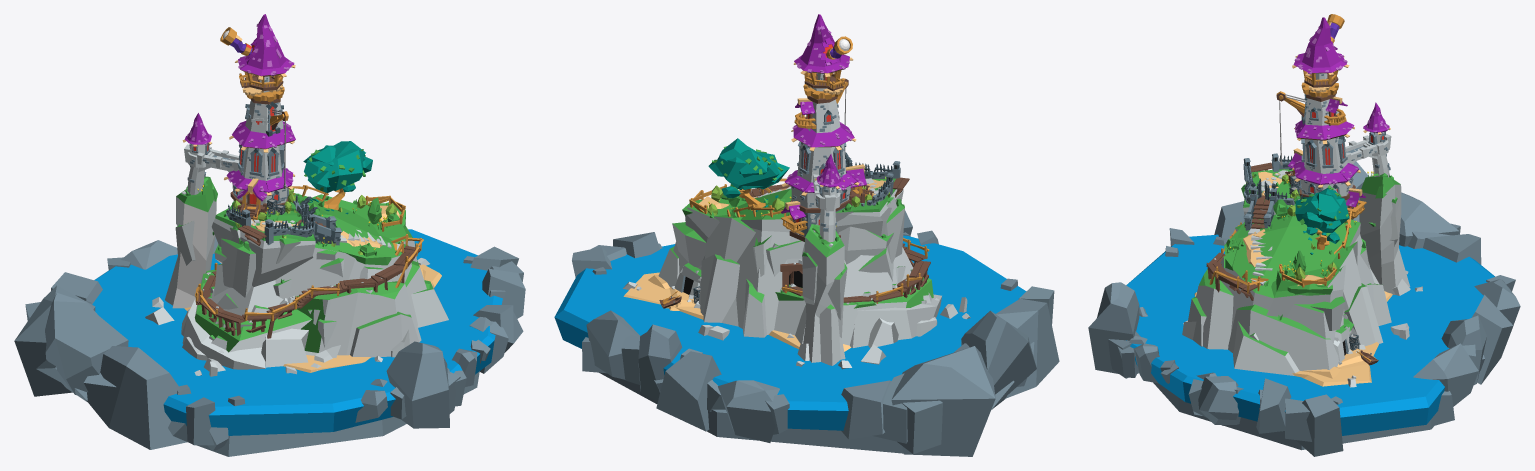
The model's file is wizard_tower.glb.
3 views of the same model, side by side, from view 1: azimuth 30°, elevation 25°; view 2: azimuth 150°, elevation 25°; view 3: azimuth 270°, elevation 25° (orthographic). The views are drawn at different scales.
Parts seen in each view (by area): view 1: group1246517241, group1145603057, group1258333840, group1359608024, group246619086_b7c4d8, group2075310523, group234471487_ce2212, group822899764, group246619086_bc17e6, group1423647544_f5302c, group10134164_f4f98c, group1062179010_3a5061 (+26 smaller); view 2: group1246517241, group822899764, group246619086_b7c4d8, group1258333840, group1423647544_f5302c, group1745990986, group2075310523, group1074259812, group1145603057, group10134164_942ea0, group1797324492_afc665, group1430347838 (+30 smaller); view 3: group1246517241, group1423647544_4867b6, group10134164_942ea0, group1667910820_225ace, group1359608024, group1423647544_f5302c, group670267053, group624288361, group2075310523, group234471487_ce2212, group374154244_beb595, group997184589 (+26 smaller).
Part boxes in pixels (x1,y1,x2,y2): group1246517241: (92,229,502,435); group1145603057: (86,346,186,449); group1258333840: (45,293,128,394); group1359608024: (386,341,449,428); group246619086_b7c4d8: (195,218,340,357); group2075310523: (197,371,479,456); group234471487_ce2212: (319,284,421,355); group822899764: (14,285,95,396); group246619086_bc17e6: (195,206,315,352); group1423647544_f5302c: (275,247,411,299); group10134164_f4f98c: (172,203,207,308); group1062179010_3a5061: (350,314,418,357); group1246517241: (554,235,1026,430); group822899764: (891,346,995,456); group246619086_b7c4d8: (721,189,913,345); group1258333840: (961,310,1036,407); group1423647544_f5302c: (673,219,802,334); group1745990986: (656,351,721,431); group2075310523: (599,372,903,453); group1074259812: (718,380,779,442); group1145603057: (996,298,1059,399); group10134164_942ea0: (803,237,845,362); group1797324492_afc665: (700,254,739,322); group1430347838: (841,380,891,439); group1246517241: (1126,234,1494,435); group1423647544_4867b6: (1233,214,1360,312); group10134164_942ea0: (1359,184,1410,294); group1667910820_225ace: (1228,309,1338,370); group1359608024: (1088,282,1139,373); group1423647544_f5302c: (1221,223,1374,347); group670267053: (1413,343,1478,406); group624288361: (1296,394,1343,456); group2075310523: (1153,382,1433,450); group234471487_ce2212: (1196,285,1233,349); group374154244_beb595: (1233,321,1299,375); group997184589: (1198,376,1240,424).
Size of the model in its own units: 39.82 by 30 by 34.07.
